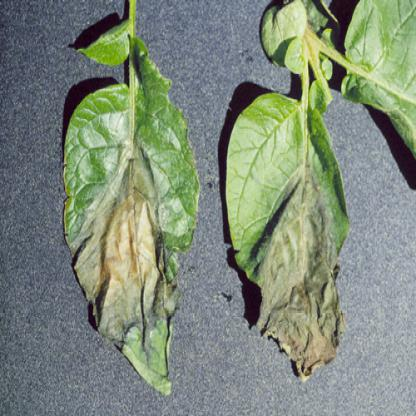potato leaf late blight: (59, 24, 205, 402), (224, 84, 354, 385)
